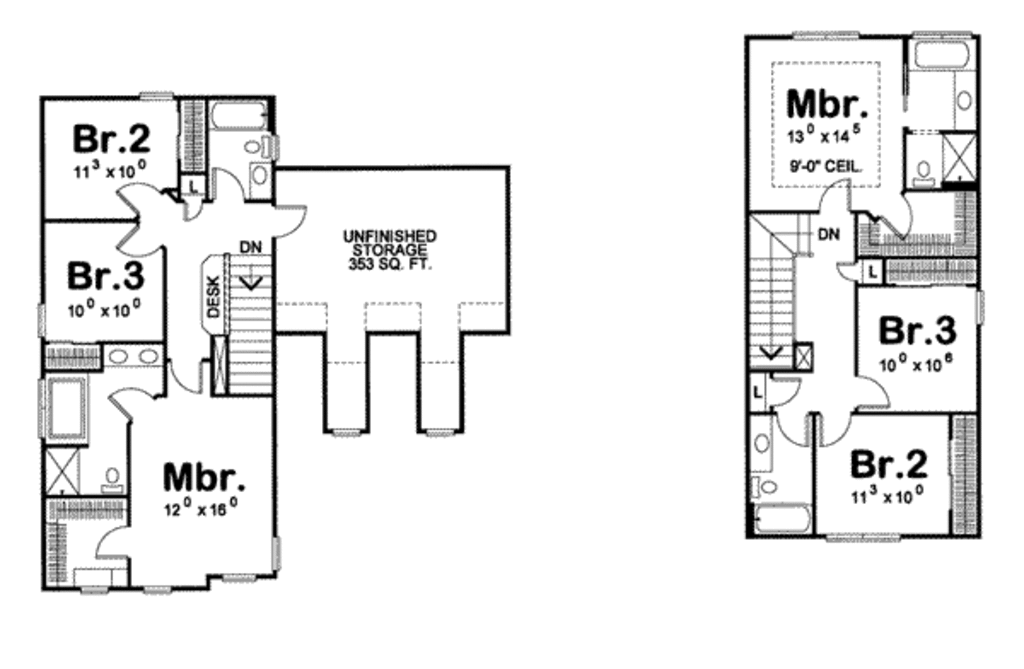door: (872, 183, 920, 246), (110, 170, 168, 220), (103, 381, 165, 424), (113, 222, 168, 260), (771, 406, 814, 450), (161, 358, 207, 399), (202, 164, 245, 204), (274, 200, 311, 246), (816, 408, 854, 452), (88, 523, 130, 561), (818, 175, 856, 216), (857, 371, 901, 405), (770, 370, 808, 408), (836, 254, 864, 299), (178, 197, 212, 226)
large_sink: (903, 150, 940, 189), (228, 130, 281, 156), (747, 470, 777, 500), (98, 464, 125, 494)
small_sink: (746, 411, 776, 476), (101, 341, 165, 366), (954, 67, 977, 132)
stairs: (744, 210, 822, 368), (219, 248, 277, 401)
tub: (44, 368, 92, 448), (905, 35, 979, 72), (207, 101, 276, 127)
window: (319, 419, 375, 441), (268, 530, 287, 575), (214, 569, 263, 584), (33, 301, 50, 343), (420, 421, 455, 438), (134, 87, 174, 101), (141, 581, 172, 599)
